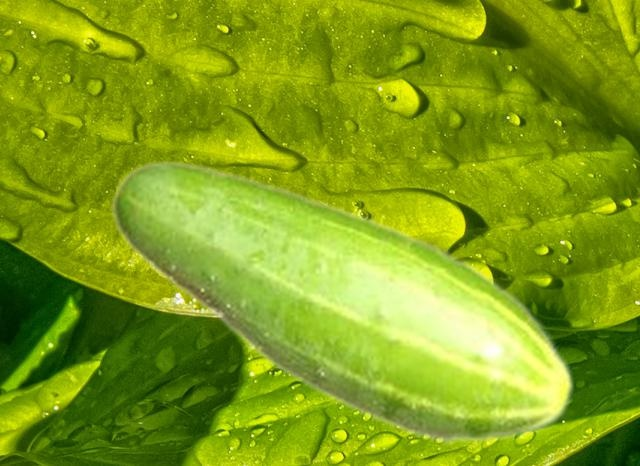cucumber: (110, 159, 575, 446)
